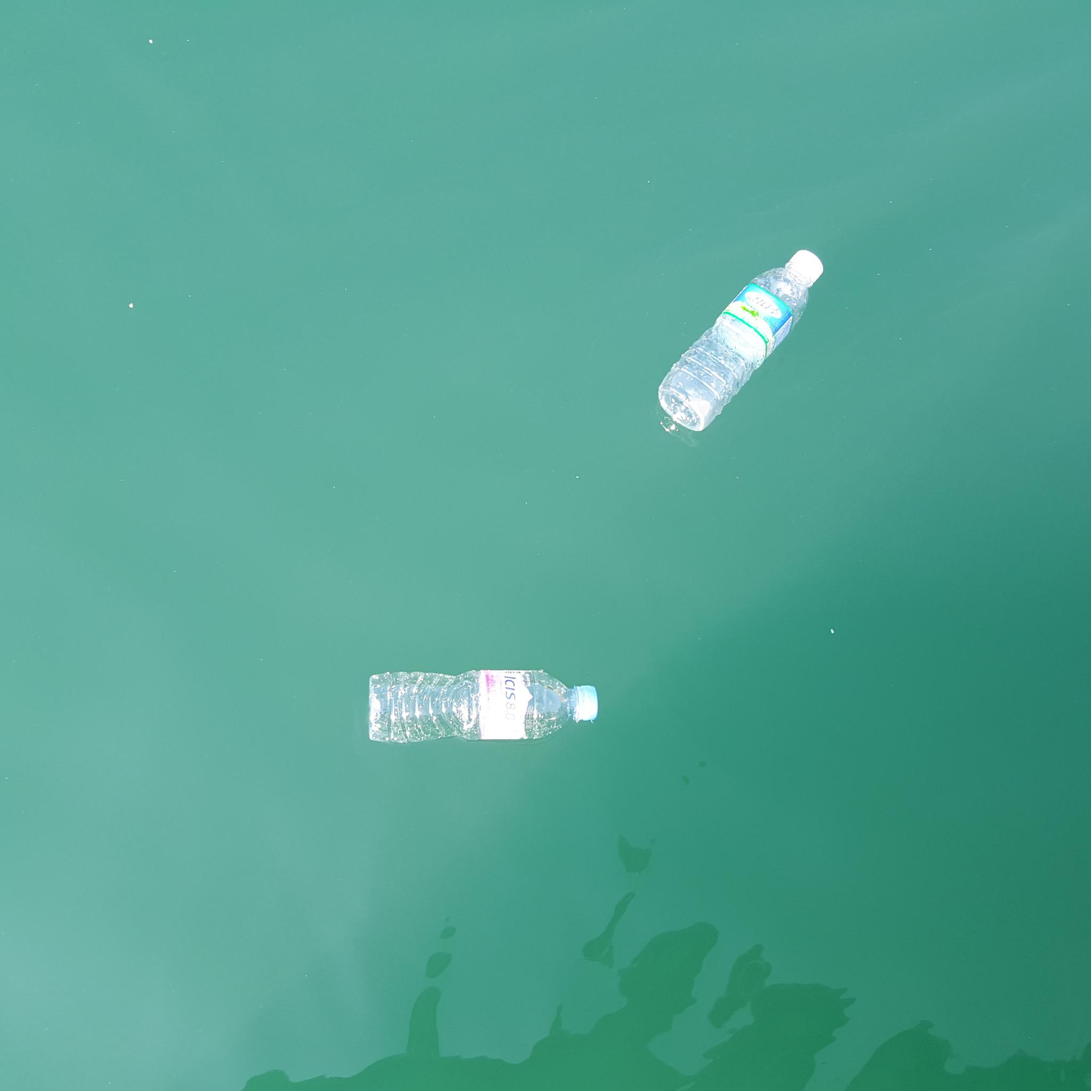sampah_terapung: (659, 250, 825, 433), (370, 671, 598, 743)
